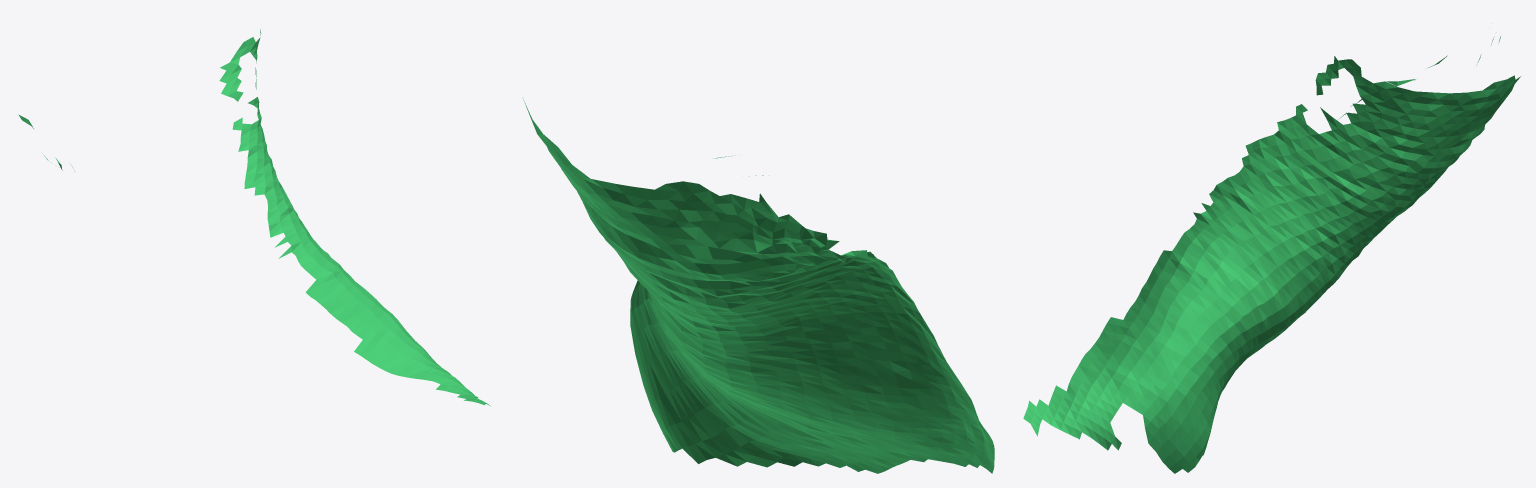
File: lh_parahippocampal.glb
3 renders of one model, left to right at view 1: azimuth 30°, elevation 25°; view 2: azimuth 150°, elevation 25°; view 3: azimuth 270°, elevation 25°, orthographic. The views are drawn at different scales.
Visible parts, largest first — view 1: world; view 2: world; view 3: world.
Part boxes in pixels (x1,y1,x2,y2): world: [18, 29, 490, 405]; world: [522, 97, 994, 473]; world: [1023, 36, 1520, 473].
Size of the model in its own units: 24.54 by 28.58 by 33.29.
